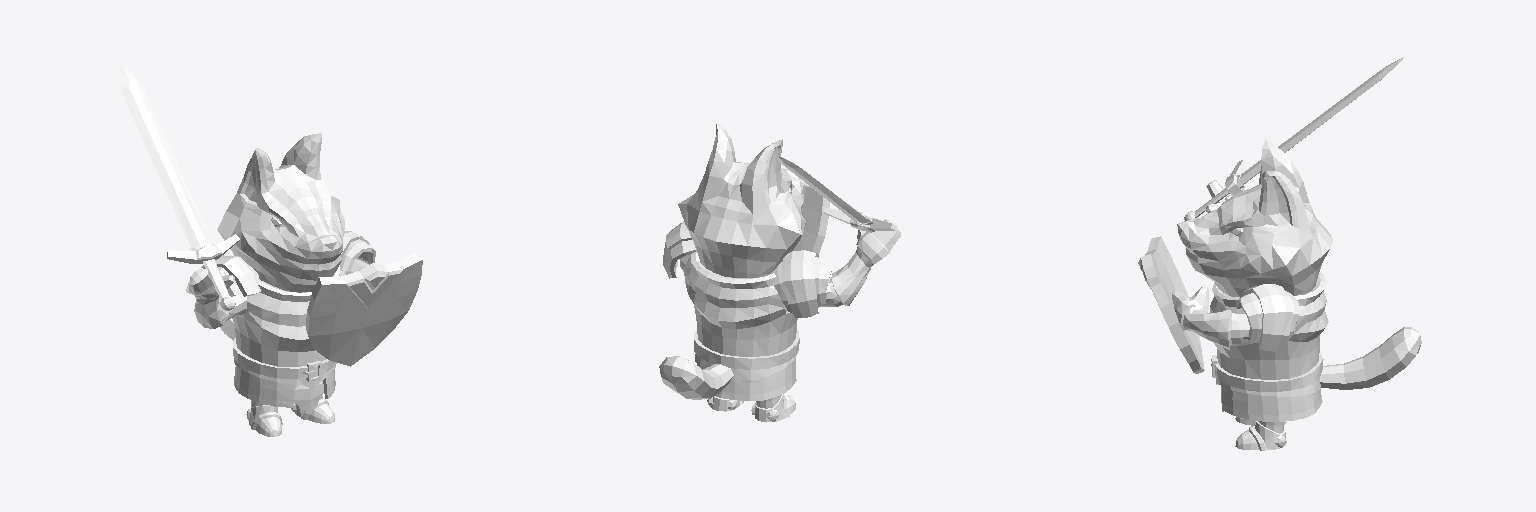
The model's file is dog.obj.
3 renders of one model, left to right at view 1: azimuth 30°, elevation 25°; view 2: azimuth 150°, elevation 25°; view 3: azimuth 270°, elevation 25°, orthographic.
Visible parts, largest first — view 1: polySurface1_Mesh, Shield4_Mesh.002, Sword3_Mesh.003; view 2: polySurface1_Mesh, Sword3_Mesh.003, Shield4_Mesh.002; view 3: polySurface1_Mesh, Shield4_Mesh.002, Sword3_Mesh.003.
Part boxes in pixels (bbox=[...]): polySurface1_Mesh: bbox=[186, 133, 375, 436]; Shield4_Mesh.002: bbox=[306, 253, 422, 366]; Sword3_Mesh.003: bbox=[120, 64, 239, 310]; polySurface1_Mesh: bbox=[659, 123, 900, 422]; Sword3_Mesh.003: bbox=[777, 156, 896, 231]; Shield4_Mesh.002: bbox=[781, 168, 829, 253]; polySurface1_Mesh: bbox=[1172, 139, 1421, 450]; Shield4_Mesh.002: bbox=[1138, 236, 1204, 373]; Sword3_Mesh.003: bbox=[1184, 57, 1403, 220].
Bounding box in the file's own units: 1.17 × 1.69 × 1.32.